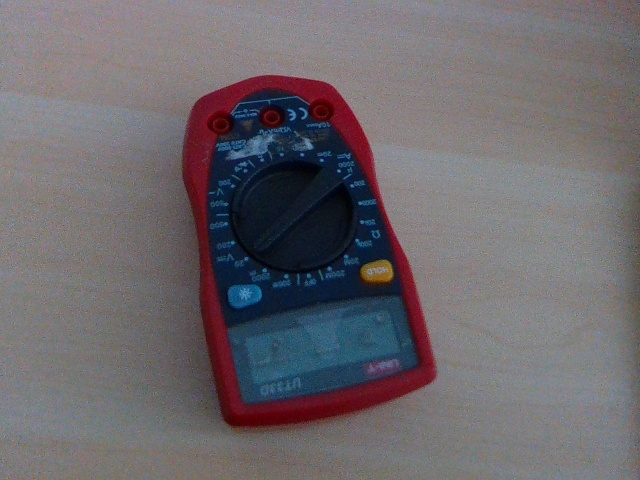multimeter: (181, 75, 439, 429)
